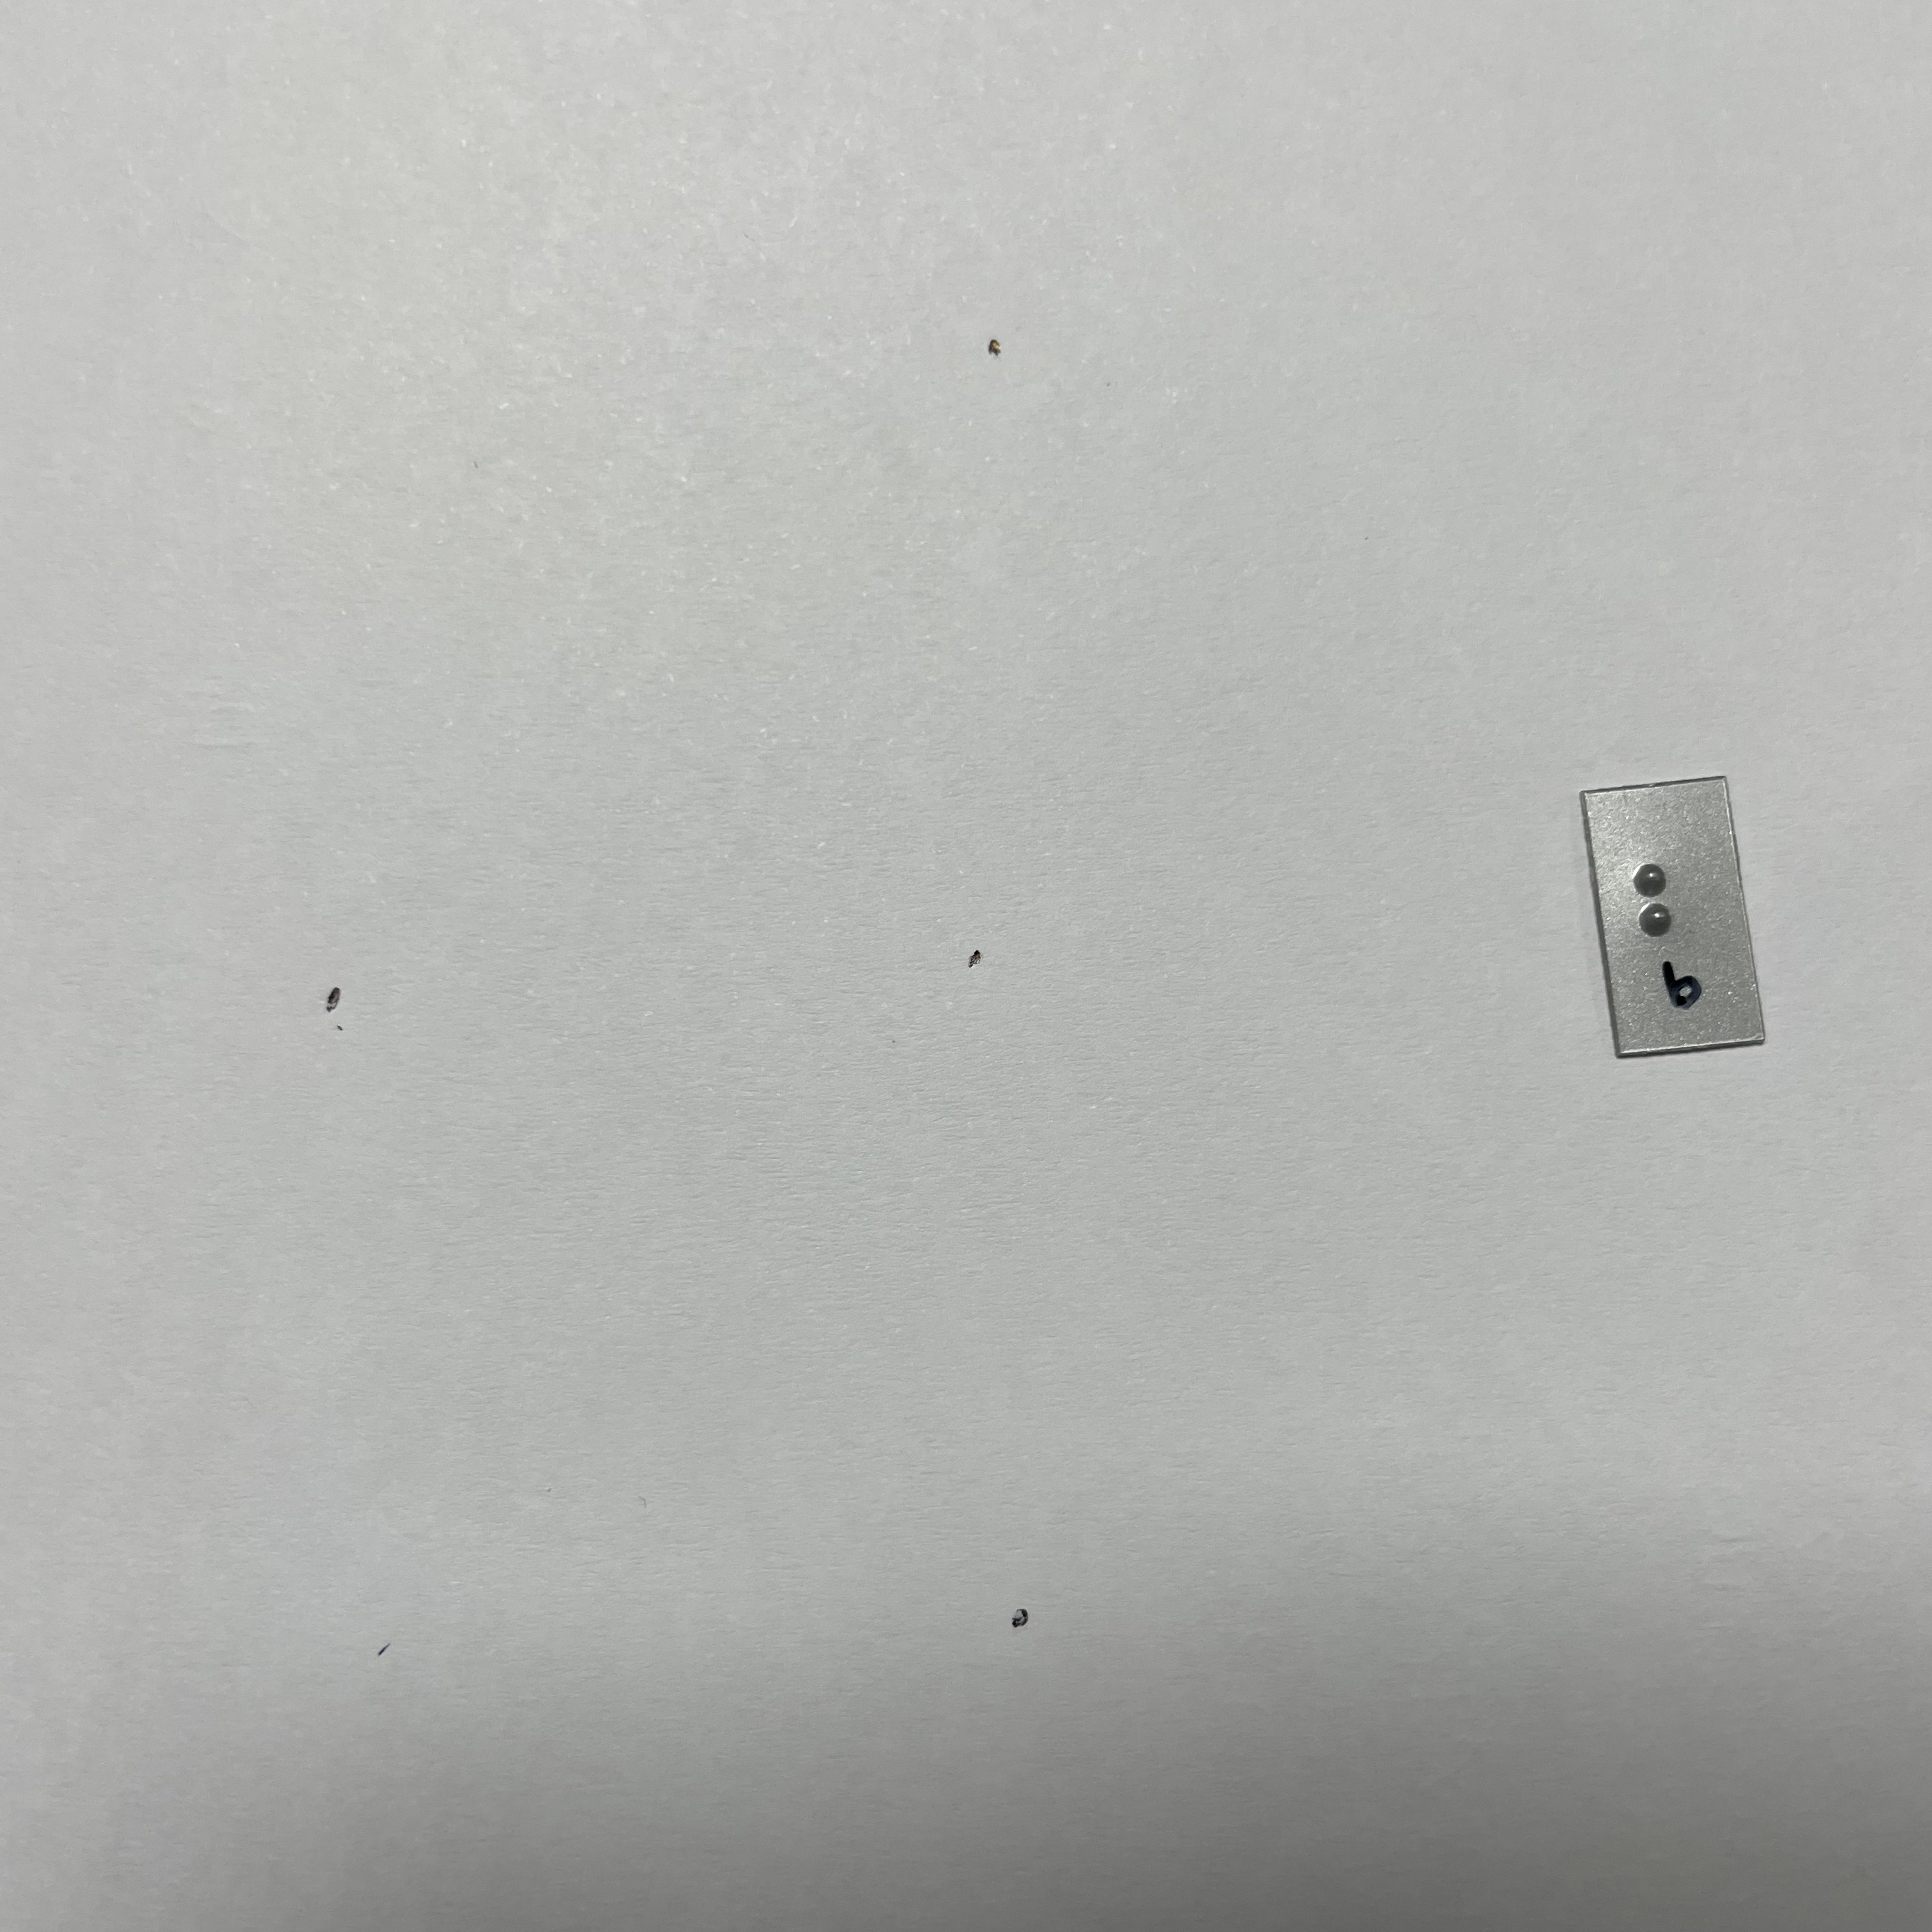b: (1621, 850, 1721, 973)
